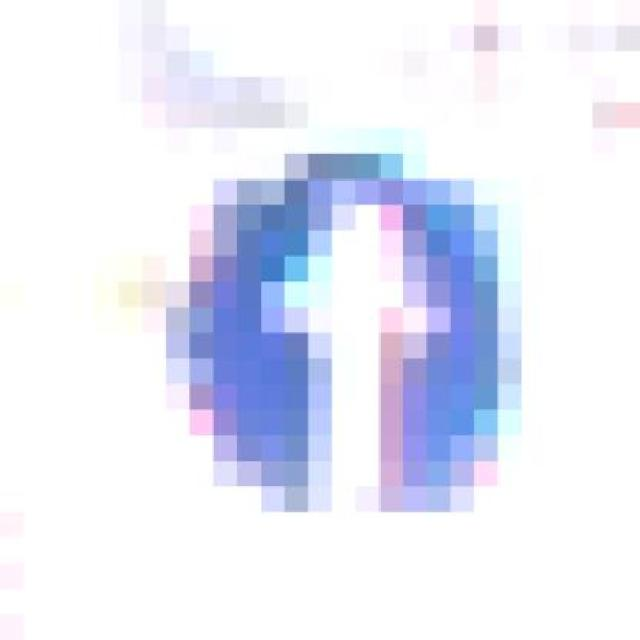Straight Ahead Only: (166, 154, 545, 512)
